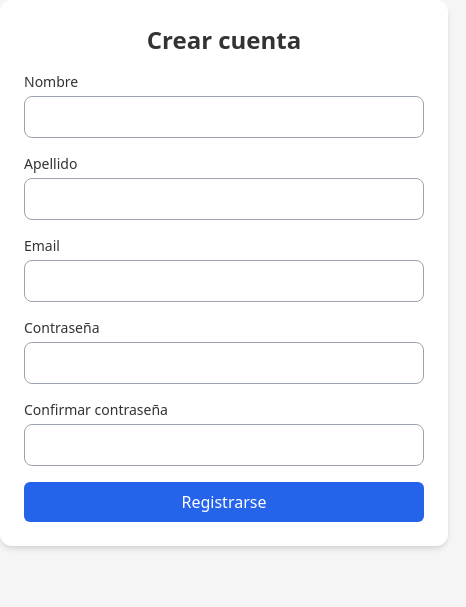
Test: RegisterForm › muestra un error del servidor si el registro falla
Type "Jane" into the field labelled "Nombre". click: (224, 117)
box: [24,96,424,138]
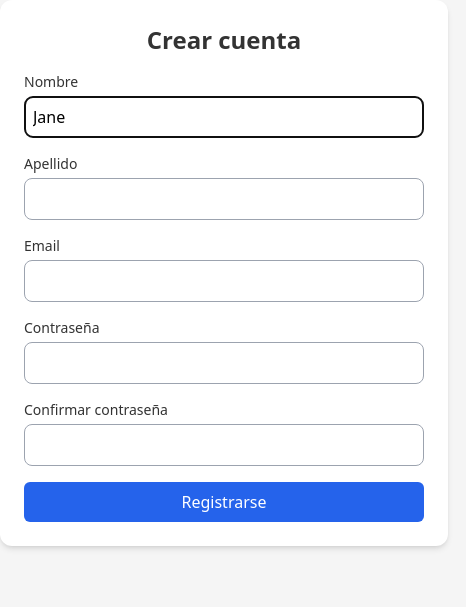
Type "Doe" into the field labelled "Apellido". click: (224, 199)
box: [24,178,424,220]
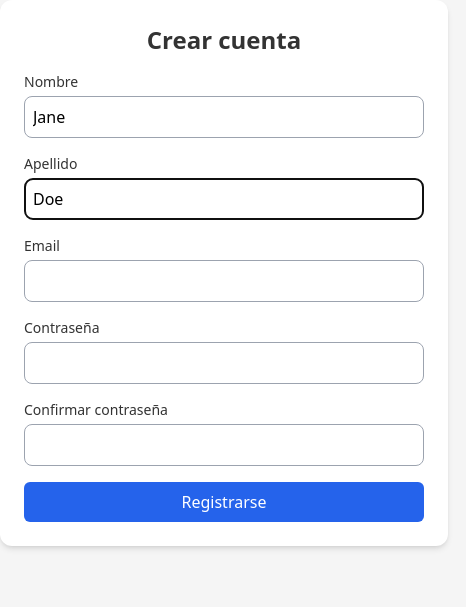
Type "jane.doe@test.com" into the field labelled "Email". click: (224, 281)
box: [24,260,424,302]
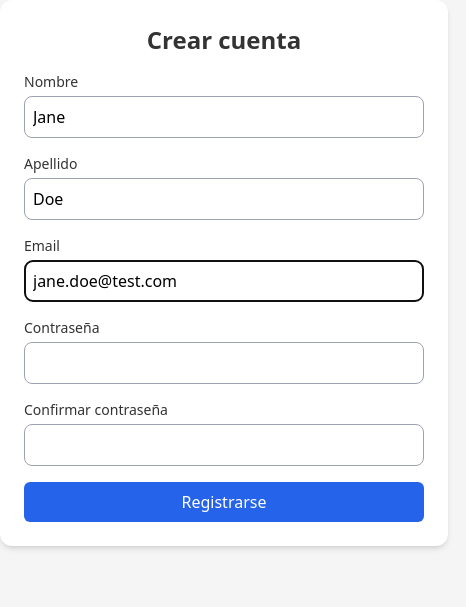
Type "password123" into the password field labelled "Contraseña". click: (224, 363)
box: [24,342,424,384]
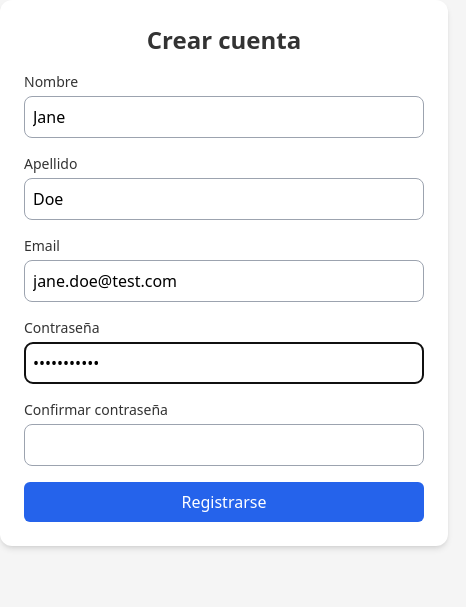
Type "password123" into the password field labelled "Confirmar contraseña". click: (224, 445)
box: [24,424,424,466]
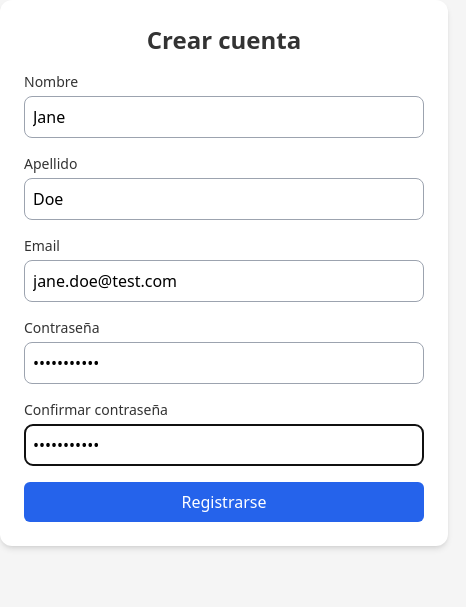
Click the button "Registrarse". click: (224, 502)
box: [24,482,424,522]
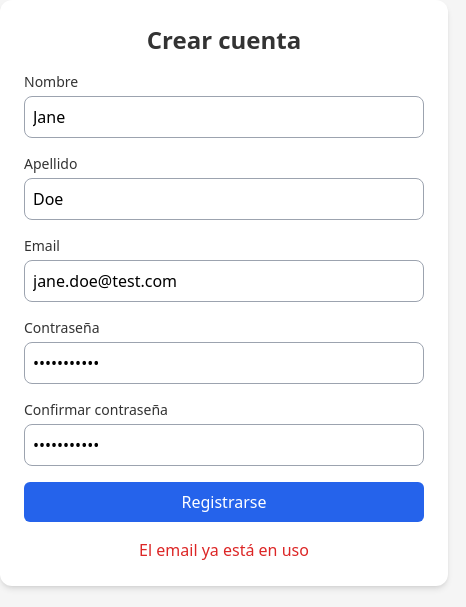
Expected: the text "El email ya está en uso" is shown, [139,539,309,561]
